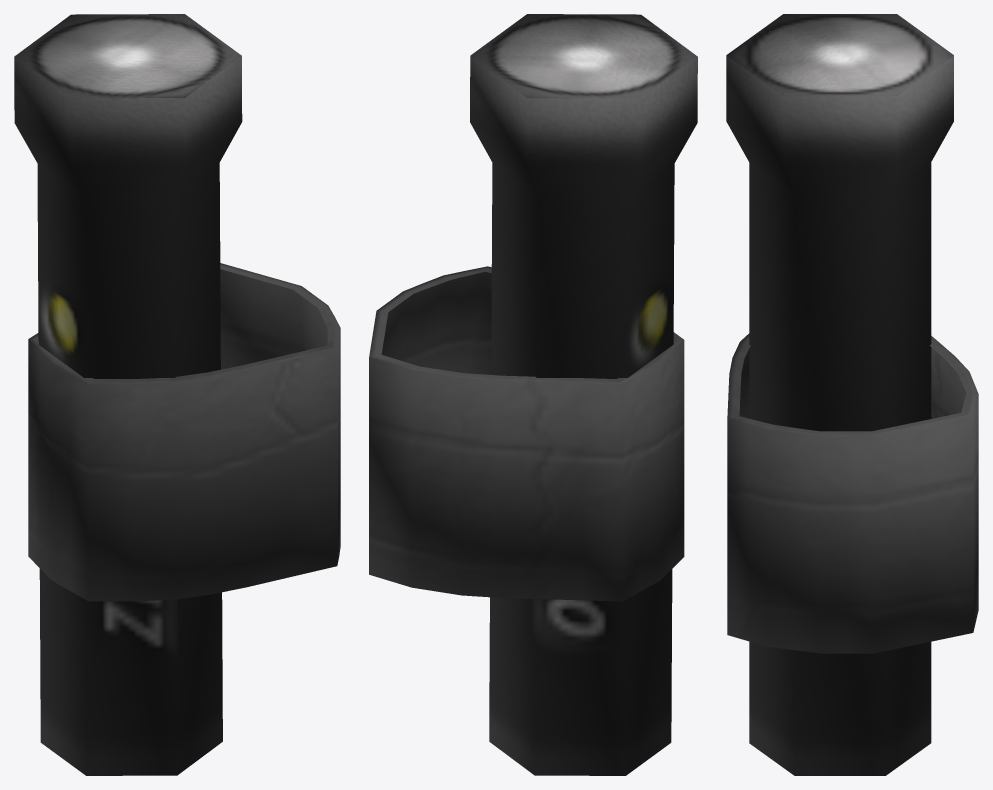
File: TLOG_WeaponFlashlightAssaultRifle.fbx
The picture shows the model from 3 angles, left to right: view 1: azimuth 30°, elevation 25°; view 2: azimuth 150°, elevation 25°; view 3: azimuth 270°, elevation 25°; orthographic projection.
Parts seen in each view (by area): view 1: FlashlightAssaultRifle; view 2: FlashlightAssaultRifle; view 3: FlashlightAssaultRifle.
Part boxes in pixels (x1,y1,x2,y2): FlashlightAssaultRifle: [14, 14, 340, 775]; FlashlightAssaultRifle: [369, 14, 697, 775]; FlashlightAssaultRifle: [726, 14, 978, 775].
Bounding box in the file's own units: 0.0566 × 0.1384 × 0.0448.
